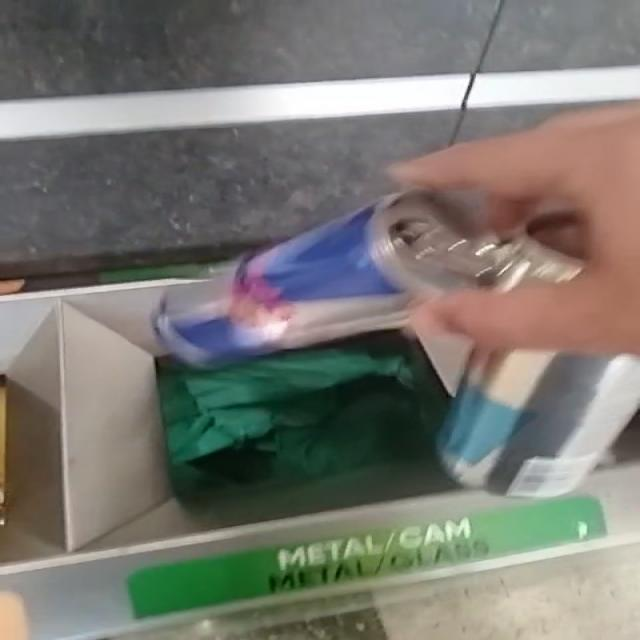Bin: (4, 281, 459, 552)
Metal: (157, 190, 584, 365), (440, 349, 640, 498), (500, 239, 584, 289), (528, 212, 588, 257)
